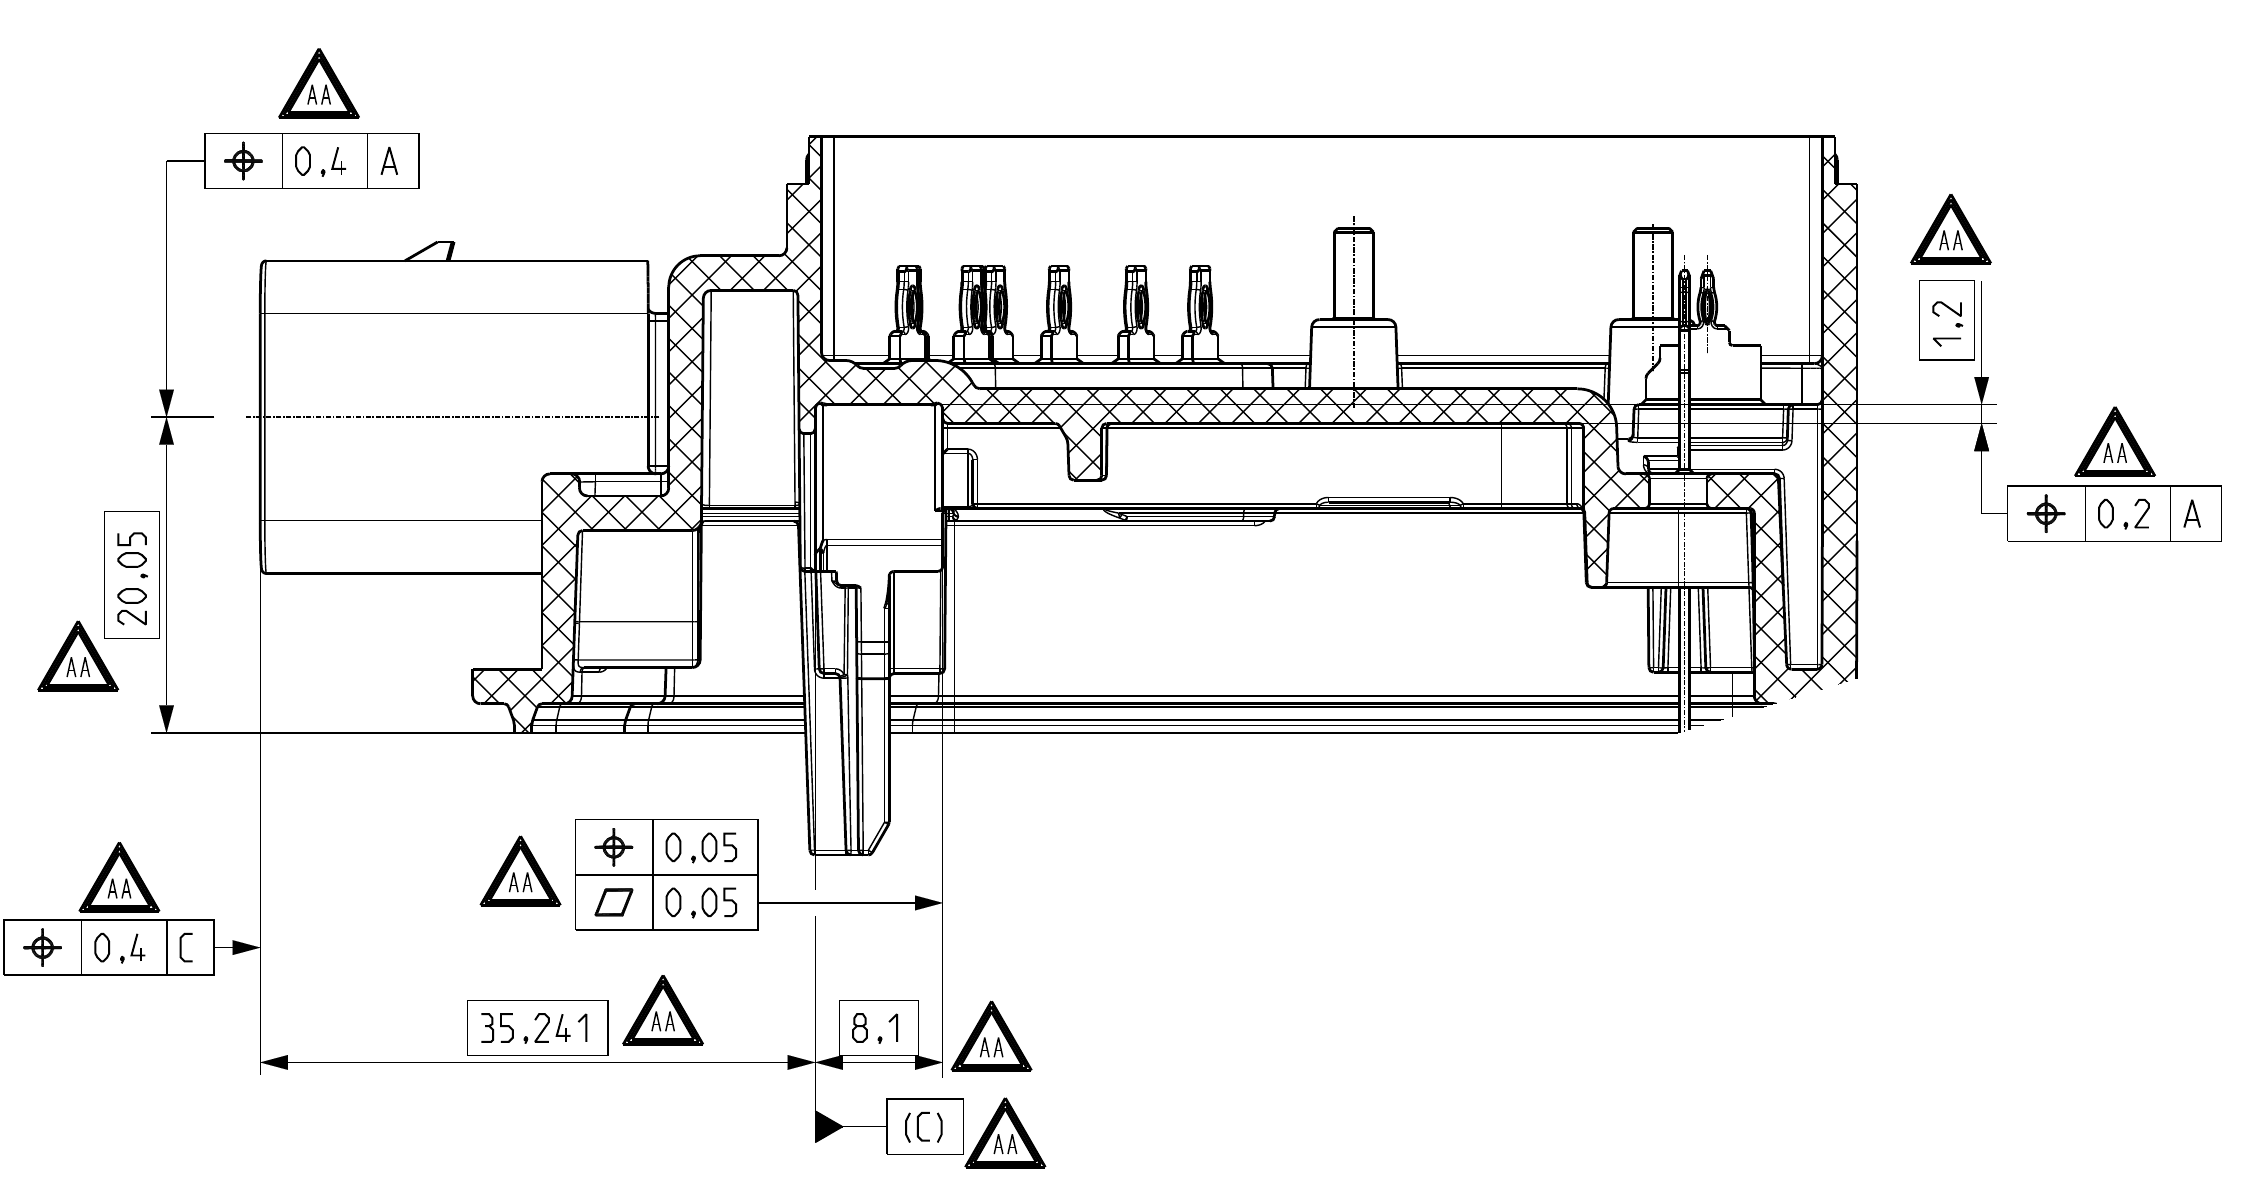falcon_r2: (1997, 476, 2227, 550), (199, 128, 424, 188), (3, 915, 215, 979), (572, 814, 759, 870), (577, 876, 759, 933)
